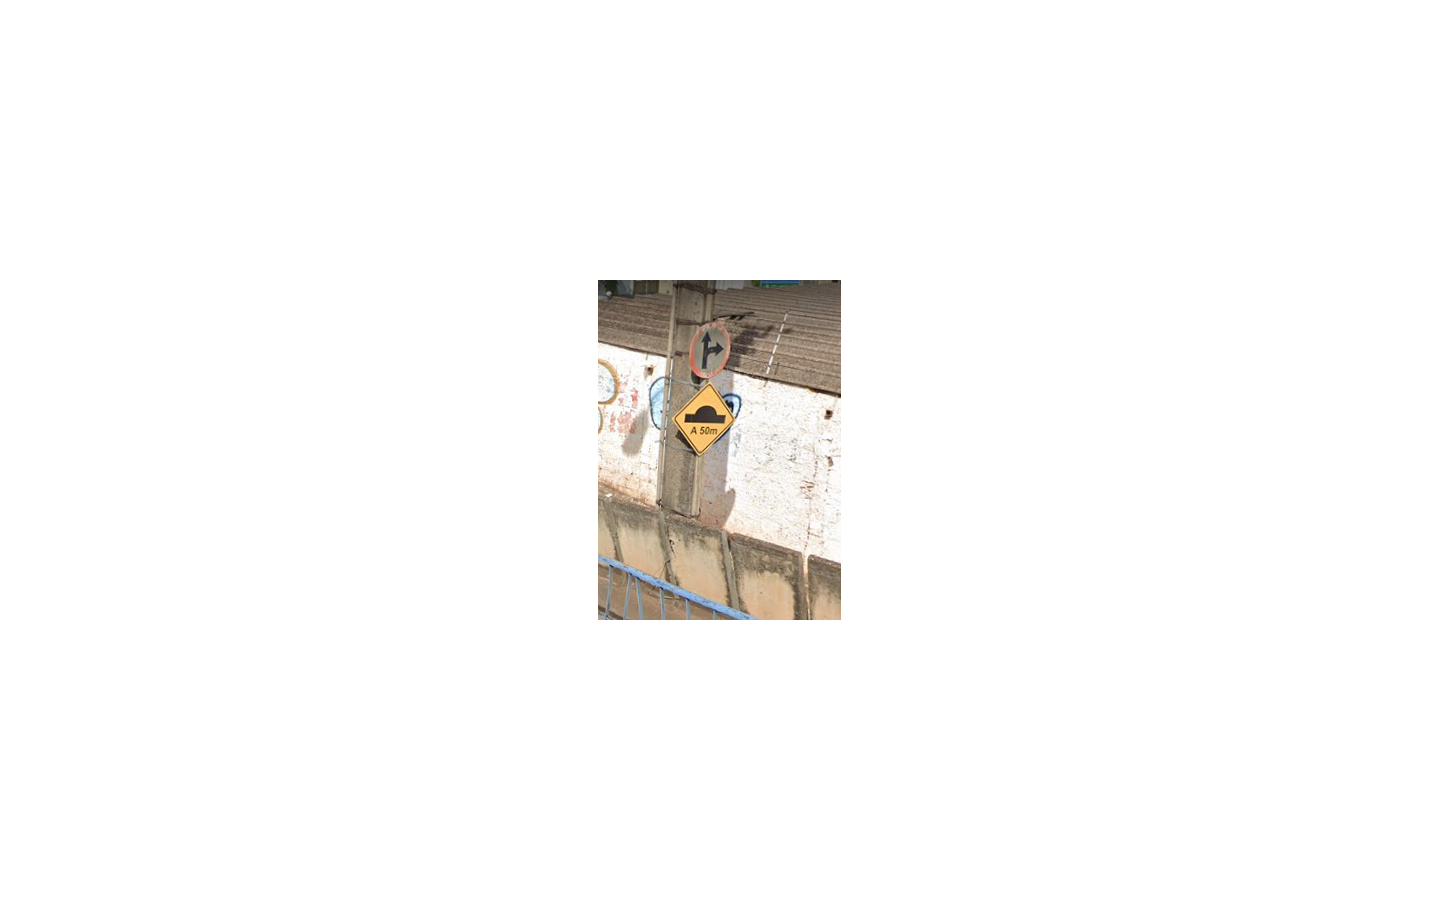l50m: (672, 382, 736, 456)
